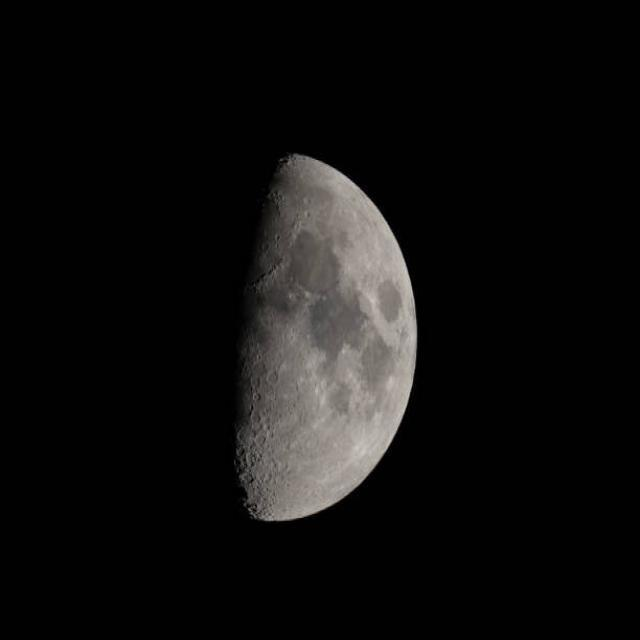moon: (128, 138, 422, 524)
